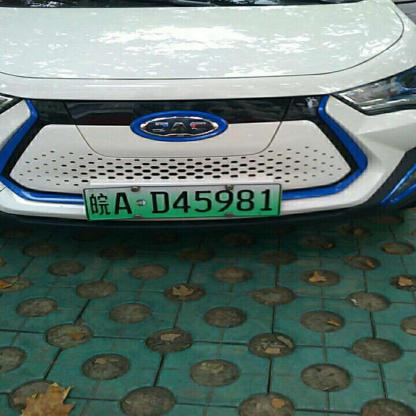lp: (84, 183, 280, 220)
